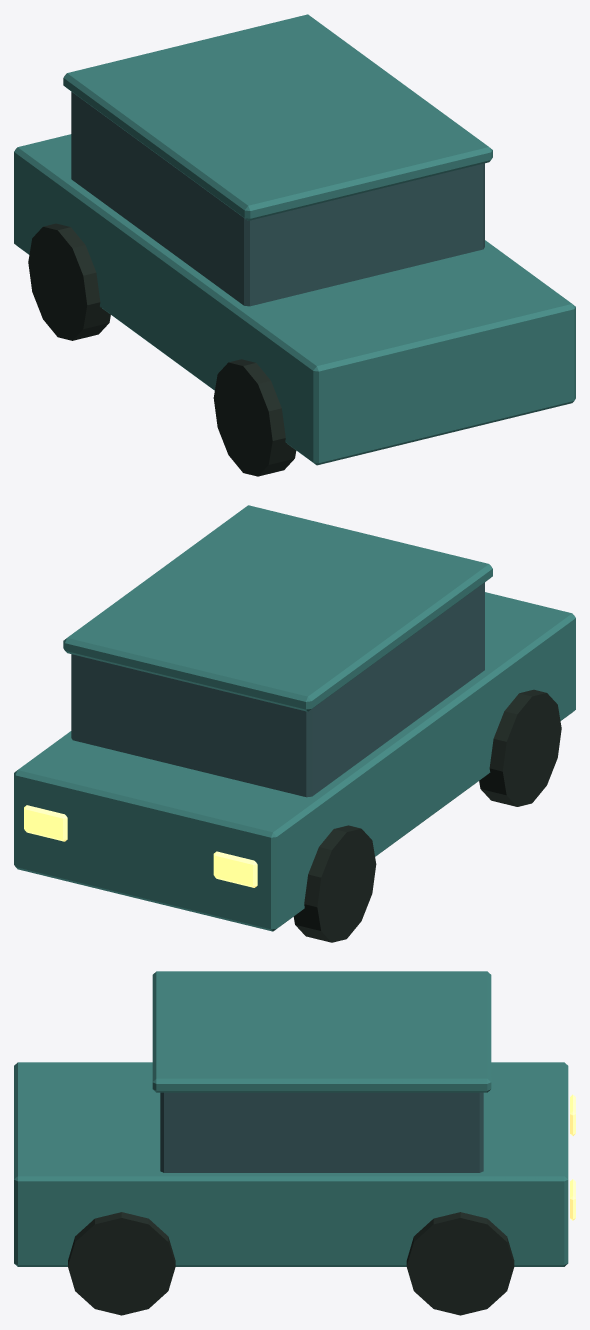
The model's file is utility_van.glb.
3 renders of one model, top to bottom at view 1: azimuth 30°, elevation 25°; view 2: azimuth 150°, elevation 25°; view 3: azimuth 270°, elevation 25°, orthographic. The views are drawn at different scales.
Visible parts, largest first — view 1: utility_van.001; view 2: utility_van.001; view 3: utility_van.001.
Part boxes in pixels (x1,y1,x2,y2): utility_van.001: (14,14,575,476); utility_van.001: (14,505,575,942); utility_van.001: (14,971,575,1315).
Bounding box in the file's own units: 1.98 × 1.62 × 3.65.
